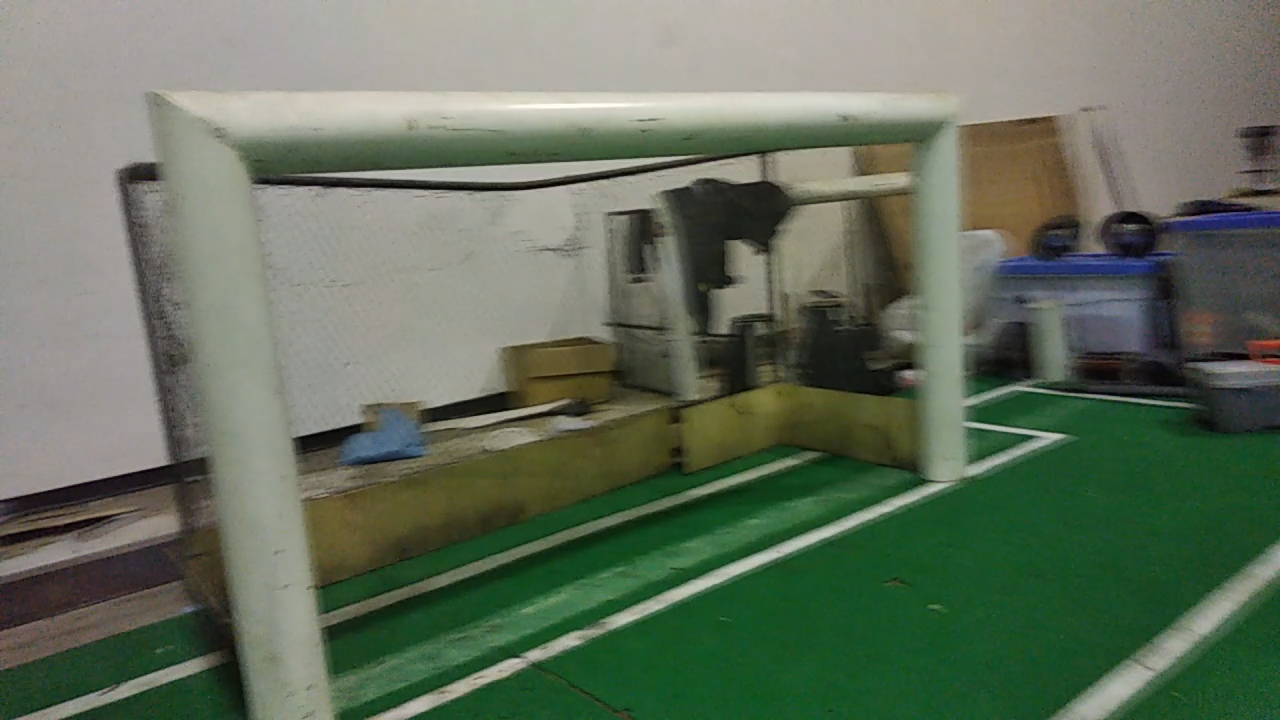gawang: (129, 72, 989, 711)
